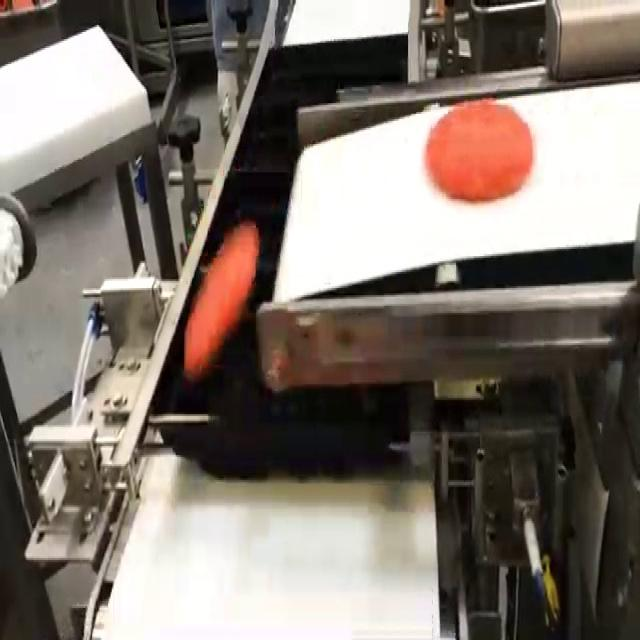hamburguer: (184, 222, 258, 379), (425, 100, 533, 201)
